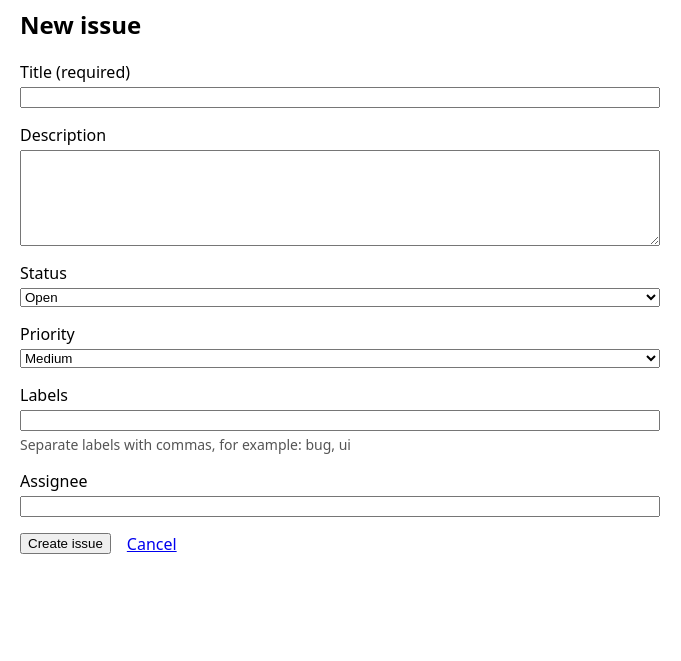
it: IssueCreateView › shows server validation errors next to their fields
Type "Valid title" into the field with id "issue-title" at (340, 97), box 20,87 -> 660,108
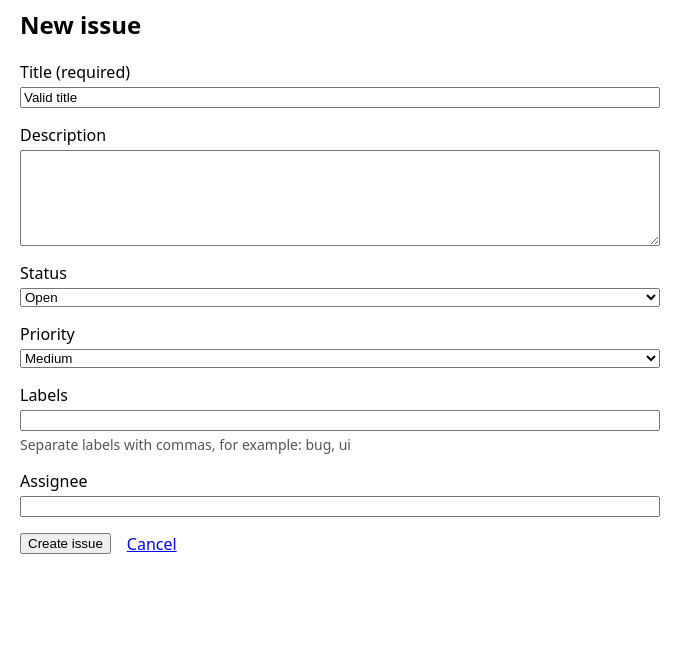
Submit the form
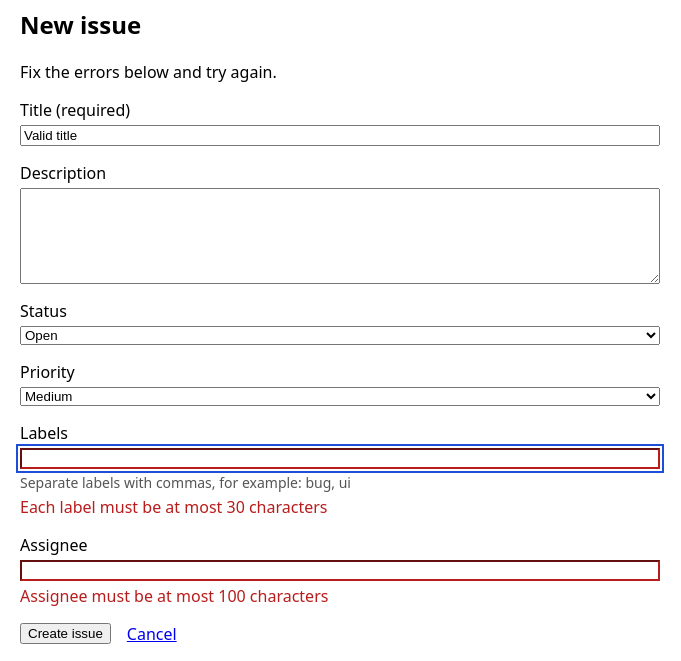
Result: the text with id "issue-labels-error" reads "Each label must be at most 30 characters" at 20,496 -> 328,518
Result: the text with id "issue-assignee-error" reads "Assignee must be at most 100 characters" at 20,585 -> 328,607
Result: the message "Fix the errors below and try again." is shown at 20,61 -> 277,83
